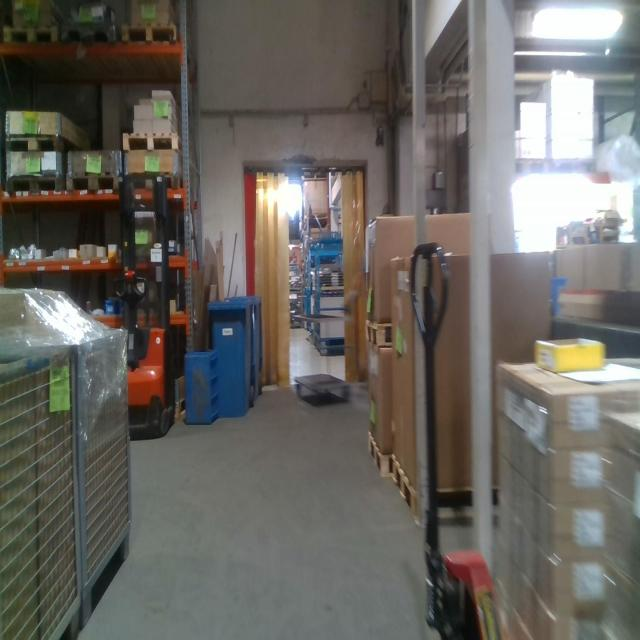pallet: (393, 449, 509, 524), (5, 130, 90, 153), (5, 170, 66, 201), (2, 21, 60, 53), (66, 167, 121, 200), (123, 126, 185, 153), (123, 170, 184, 197), (117, 25, 182, 48), (59, 25, 118, 46), (365, 315, 399, 348), (366, 431, 387, 483)
pallet_truck: (404, 224, 514, 640), (97, 167, 181, 448)
stillage: (1, 344, 81, 637), (80, 329, 132, 630)
